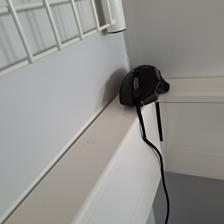mouse: (117, 63, 170, 107)
